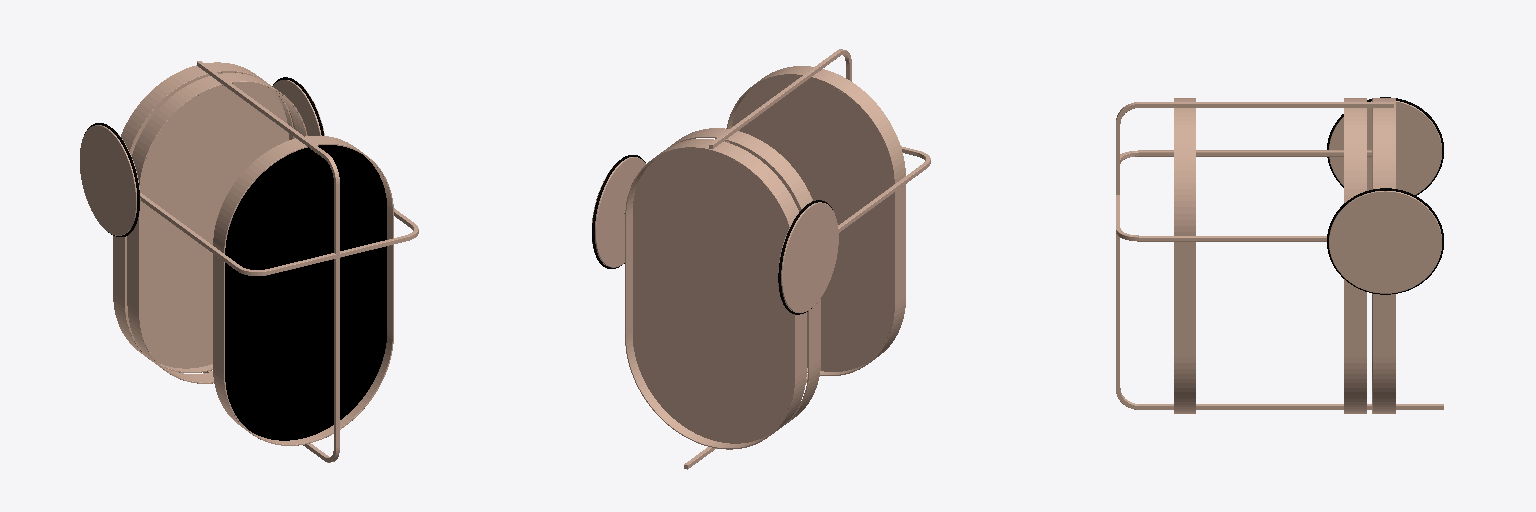
The model's file is Schonbuch_Grace_Trolley_mat(2).obj.
3 views of the same model, side by side, from view 1: azimuth 30°, elevation 25°; view 2: azimuth 150°, elevation 25°; view 3: azimuth 270°, elevation 25° (orthographic).
Parts seen in each view (by area): view 1: Schonbuch_Grace_Trolley_mat2; view 2: Schonbuch_Grace_Trolley_mat2; view 3: Schonbuch_Grace_Trolley_mat2.
Boxes of the visible parts, x1=… form: Schonbuch_Grace_Trolley_mat2: x1=80, y1=61, x2=418, y2=462; Schonbuch_Grace_Trolley_mat2: x1=592, y1=49, x2=930, y2=469; Schonbuch_Grace_Trolley_mat2: x1=1116, y1=97, x2=1443, y2=413.
Bounding box in the file's own units: 47 × 72 × 70.